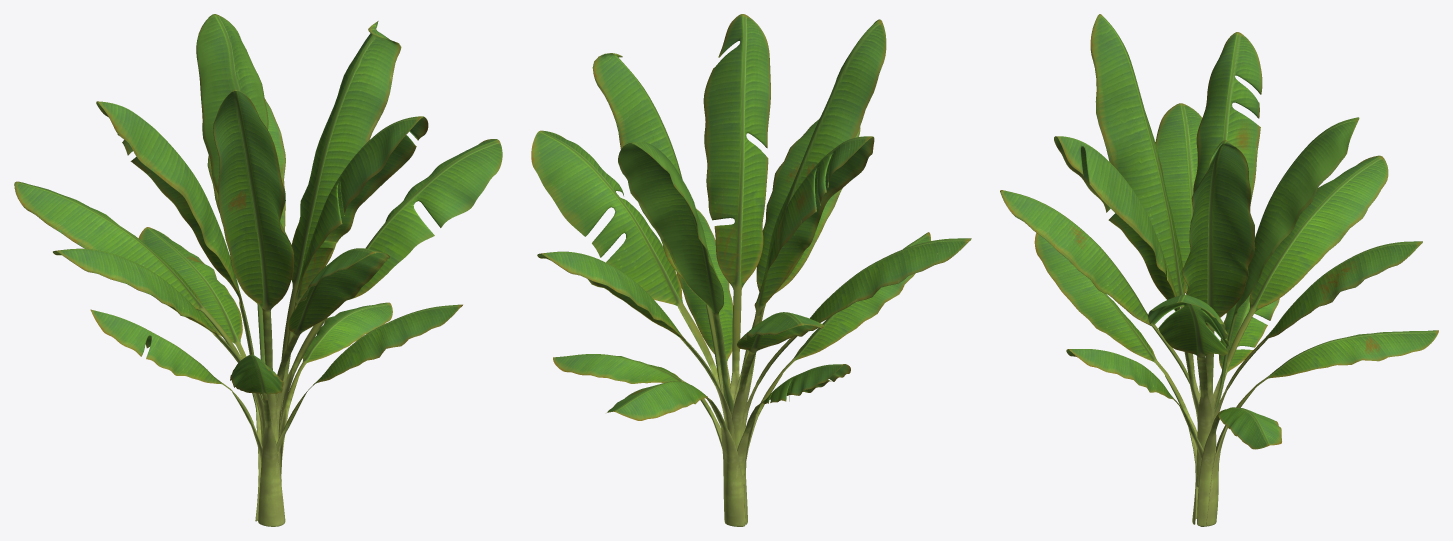
Rendered from pianta-ngf.glb.
3 views of the same model, side by side, from view 1: azimuth 30°, elevation 25°; view 2: azimuth 150°, elevation 25°; view 3: azimuth 270°, elevation 25° (orthographic). The views are drawn at different scales.
Parts seen in each view (by area): view 1: Plane_0; view 2: Plane_0; view 3: Plane_0.
Boxes of the visible parts, x1,y1,x2,y2 form: Plane_0: (14, 14, 502, 526); Plane_0: (531, 14, 971, 526); Plane_0: (1000, 14, 1438, 526).
Size of the model in its own units: 24.28 by 26.16 by 22.22.
Materials: 1 (1 with a texture image).
